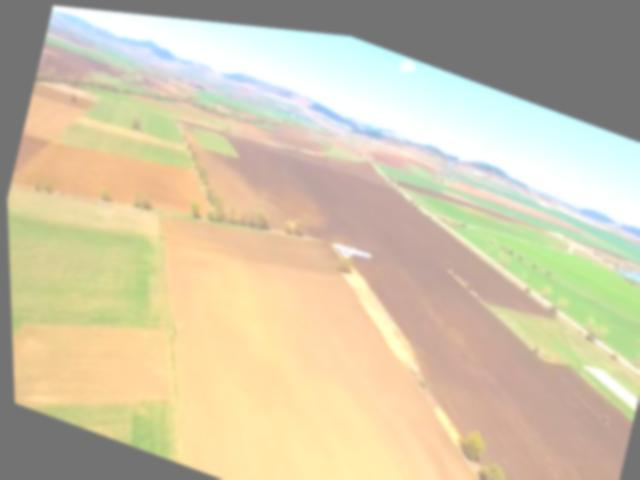uav: (324, 224, 375, 262)
